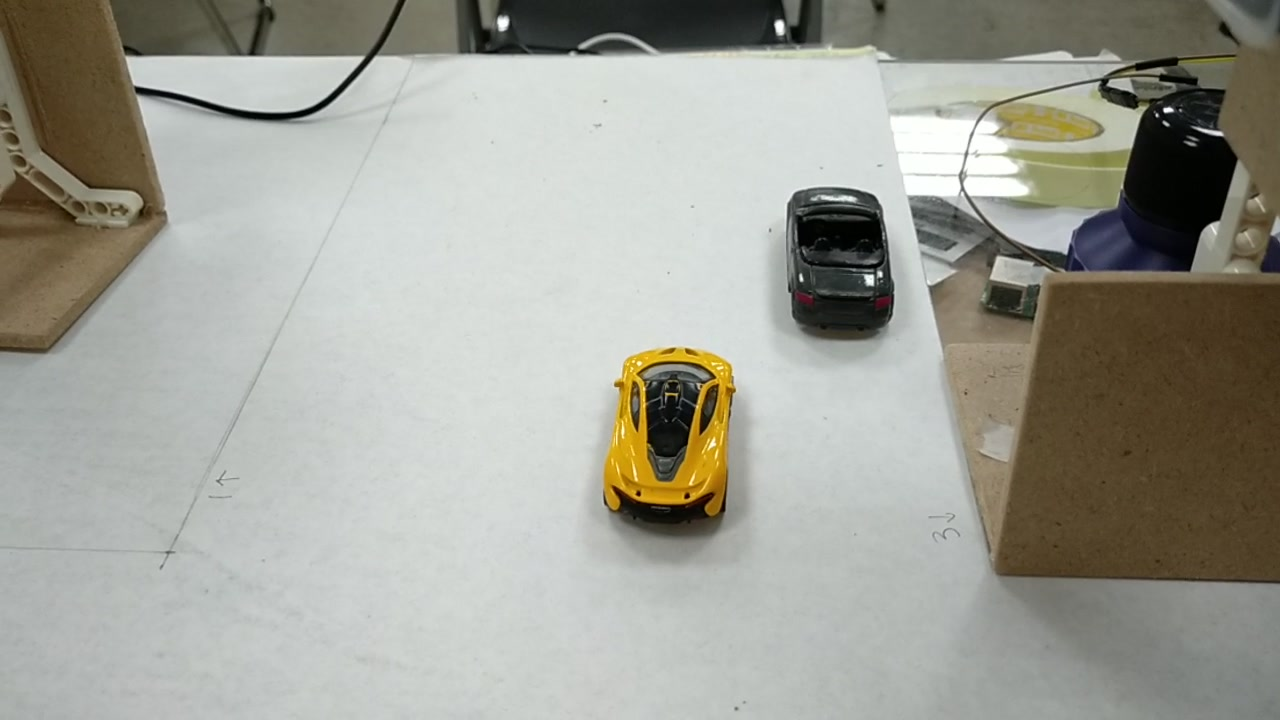car: (605, 358, 741, 509), (788, 184, 891, 319)
